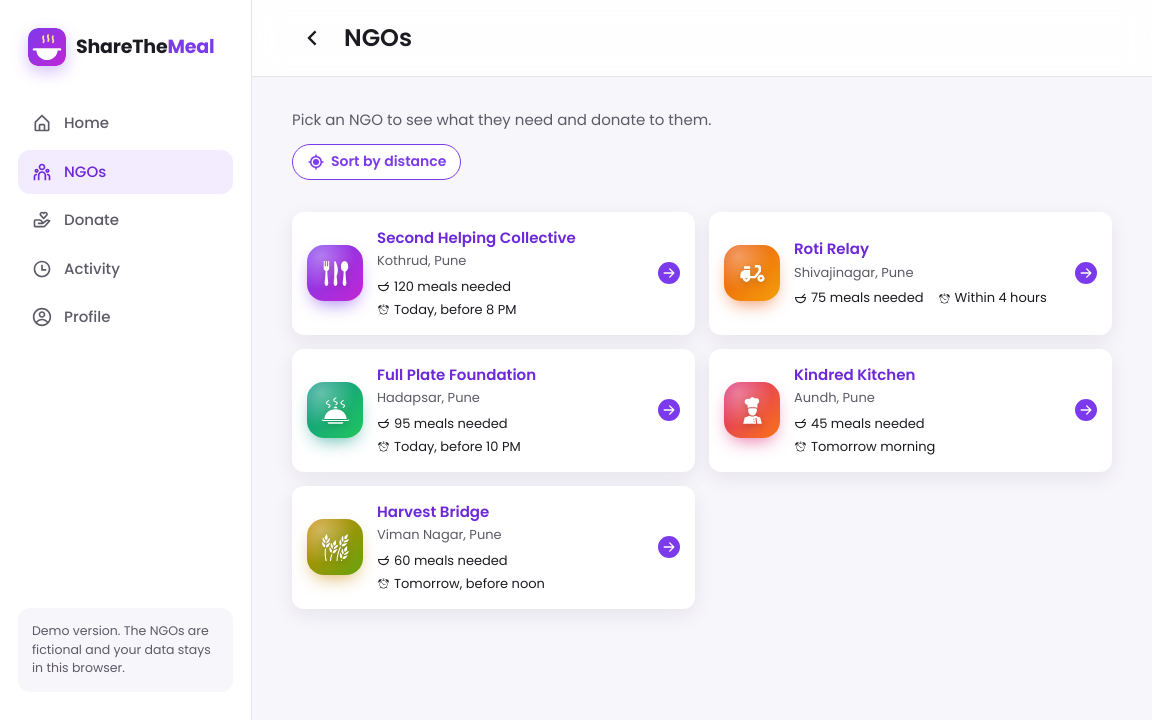
Test: finding NGOs nearby › explains when location is blocked
Click the button "Sort by distance": (377,162) [292, 144, 461, 180]
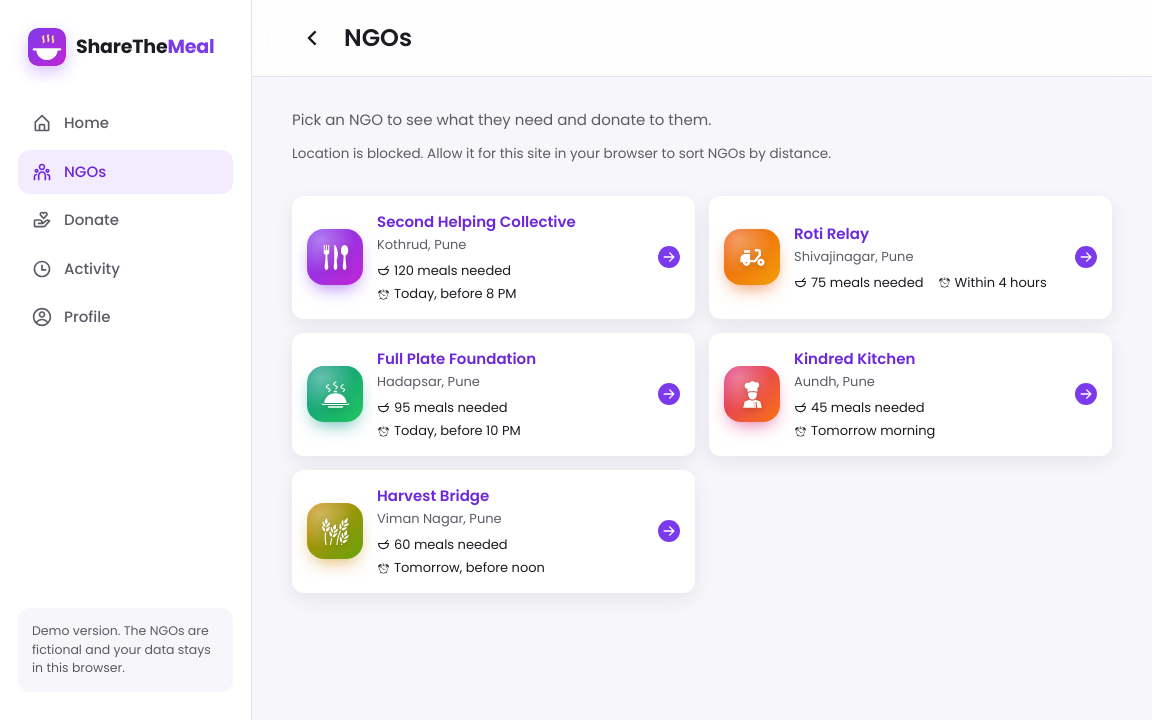
Check: the text "Location is blocked" is shown, box [292, 144, 831, 162]
